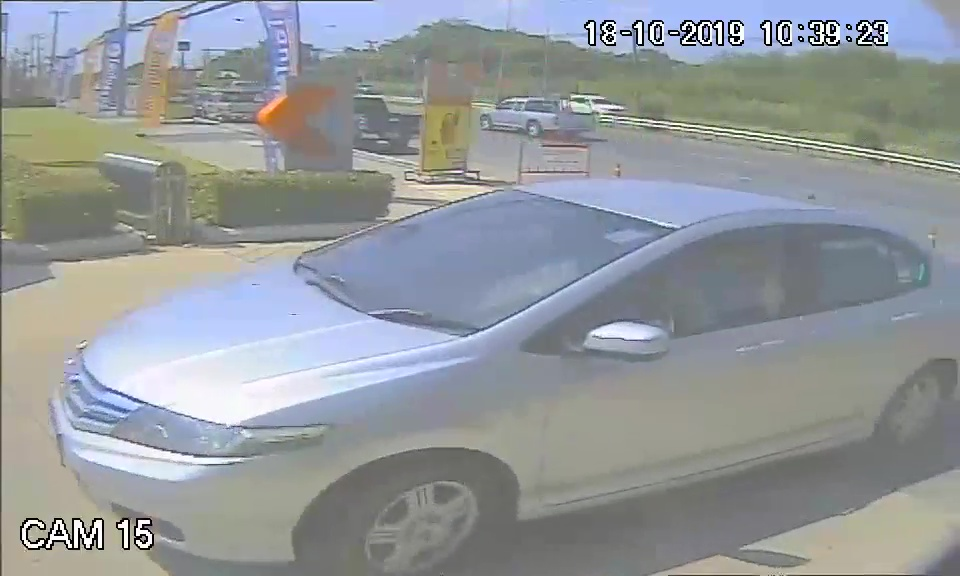sedan: (36, 181, 839, 573)
